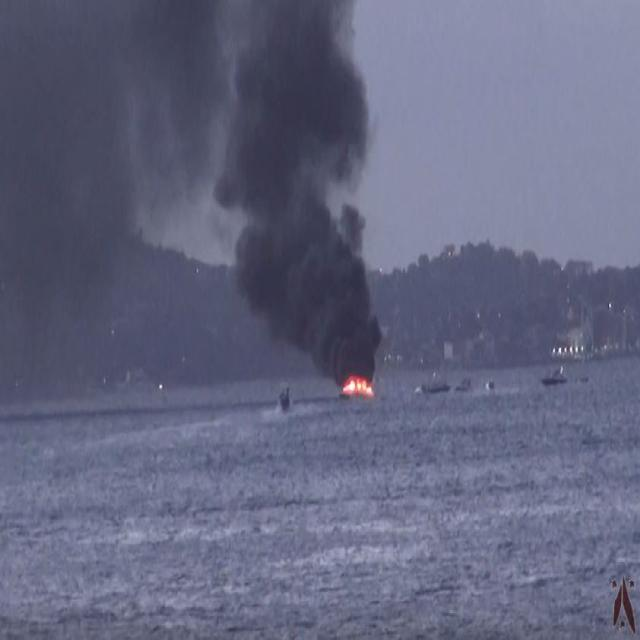Fire: (336, 364, 380, 403)
Smoke: (212, 22, 368, 206), (236, 208, 380, 376), (126, 84, 180, 243), (338, 201, 370, 253), (200, 206, 232, 257)
